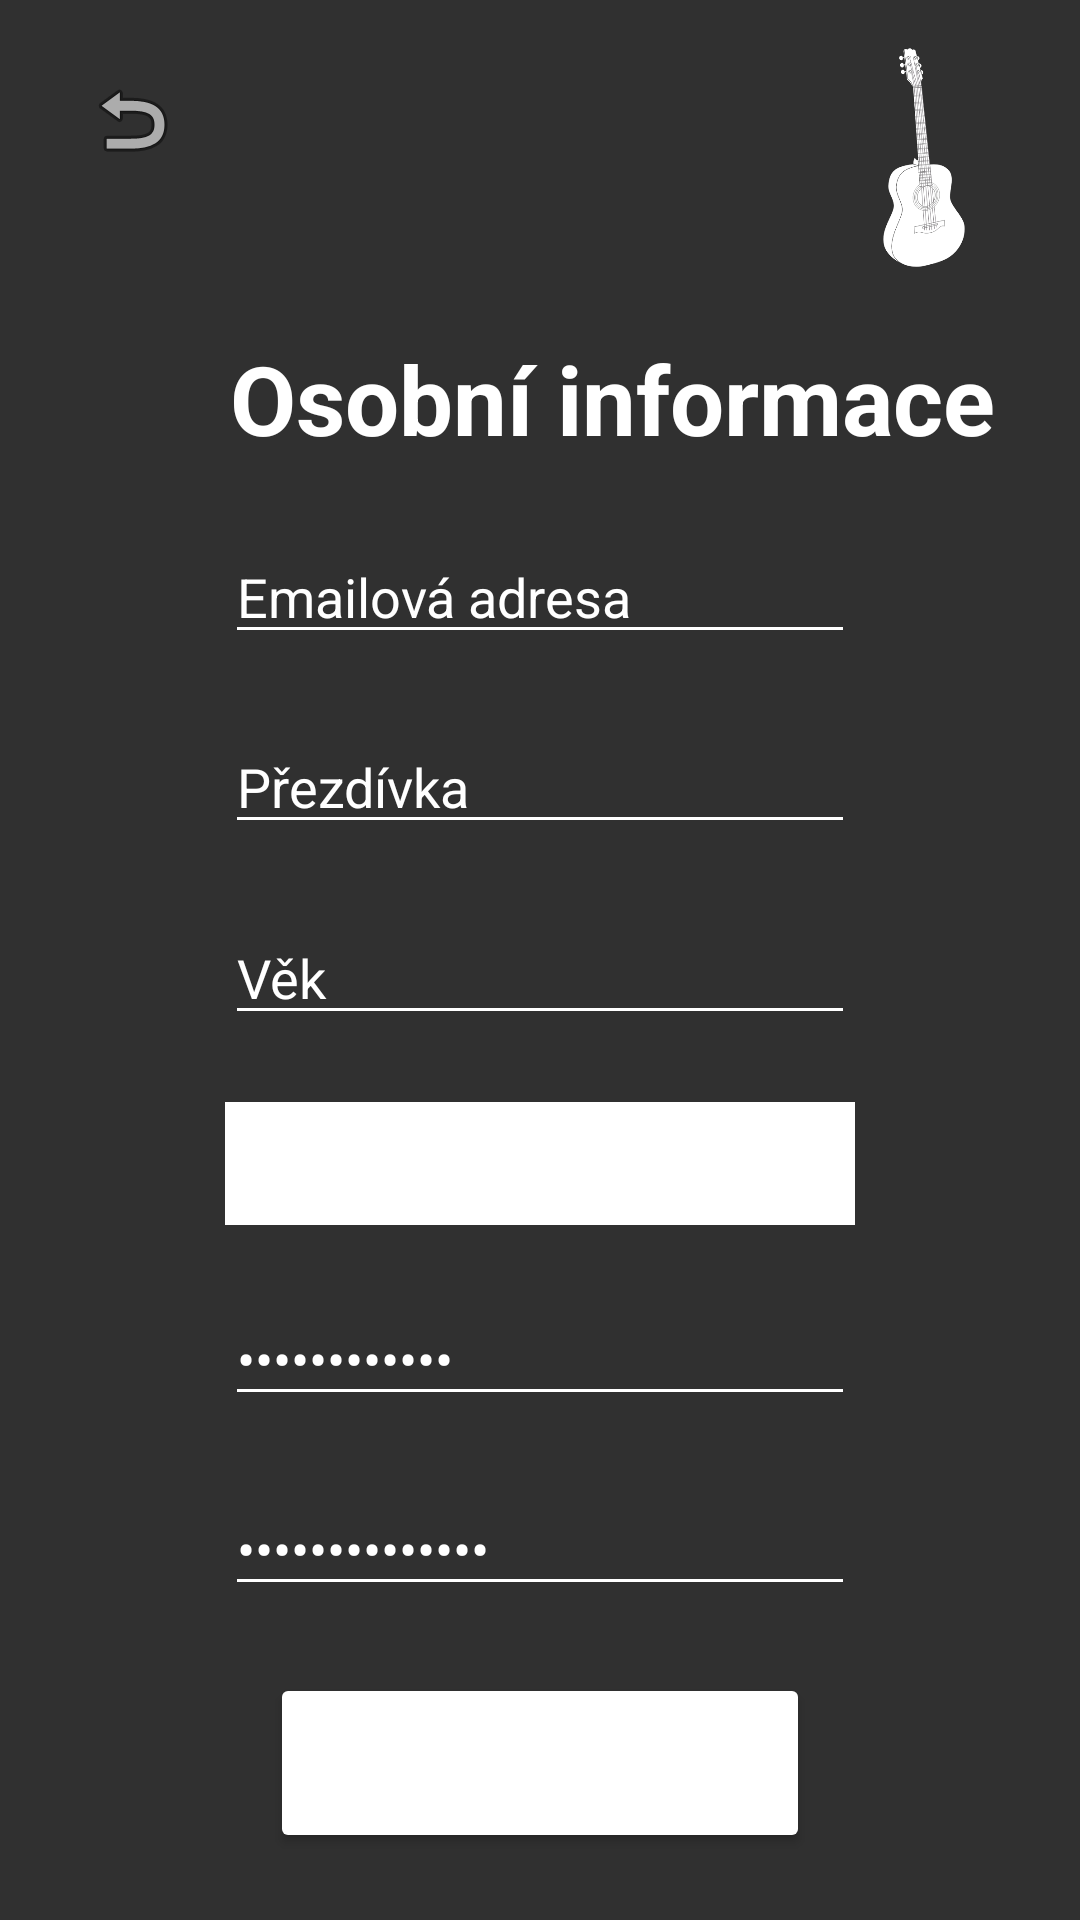

Screen size 1080*1920. Icon name, then its center in pixels as point (x, y):
papapishu guitar: point (924, 157)
revert: point (133, 121)
